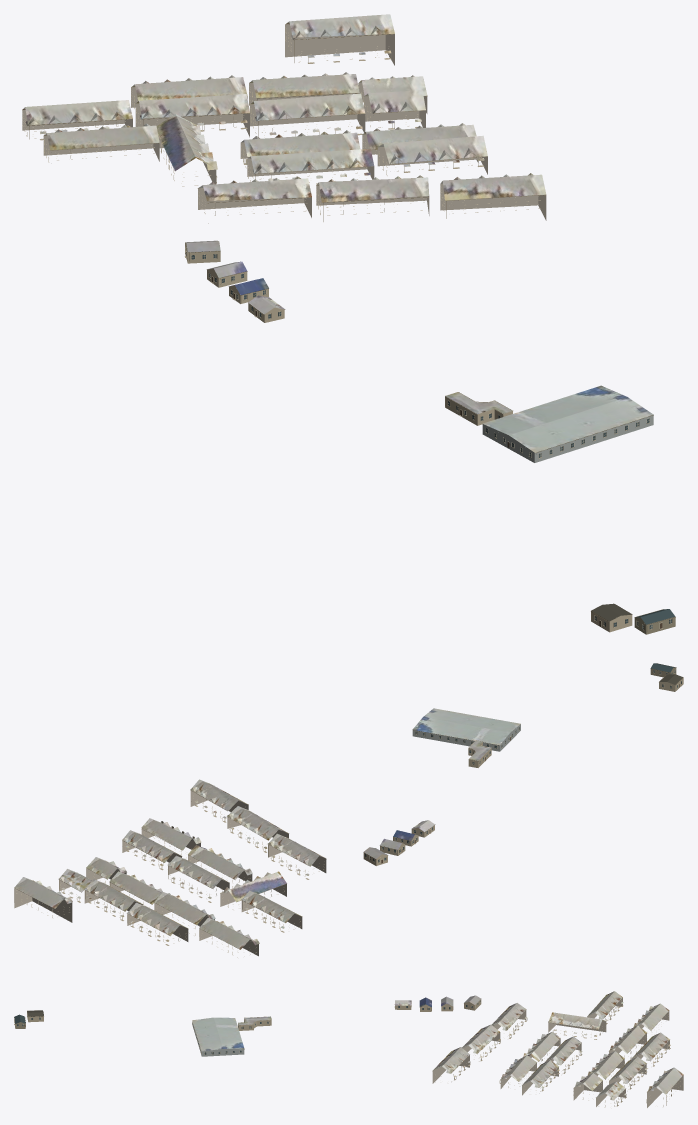
The picture shows the model from 3 angles, top to bottom: view 1: azimuth 30°, elevation 25°; view 2: azimuth 150°, elevation 25°; view 3: azimuth 270°, elevation 25°; orthographic projection. The views are drawn at different scales.
Visible parts, largest first — view 1: -1_10_599463994_4, -1_10_-20093407273_40, -1_10_608377040_9, -1_10_608377696_19; view 2: -1_10_599463994_4, -1_10_-20093407273_40, -1_10_608377040_9; view 3: -1_10_599463994_4, -1_10_-20093407273_40, -1_10_608377040_9, -1_10_608377696_19.
Boxes of the visible parts, x1,y1,x2,y2 form: -1_10_599463994_4: (22, 14, 675, 631); -1_10_-20093407273_40: (22, 24, 546, 220); -1_10_608377040_9: (185, 242, 632, 632); -1_10_608377696_19: (591, 603, 675, 634); -1_10_599463994_4: (14, 663, 682, 957); -1_10_-20093407273_40: (14, 790, 326, 956); -1_10_608377040_9: (363, 677, 683, 865); -1_10_599463994_4: (14, 991, 683, 1107); -1_10_-20093407273_40: (432, 998, 683, 1107); -1_10_608377040_9: (27, 999, 481, 1030); -1_10_608377696_19: (14, 1010, 43, 1028).
Bounding box in the file's own units: 176 × 27.78 × 488.
Materials: 14 (1 with a texture image).
